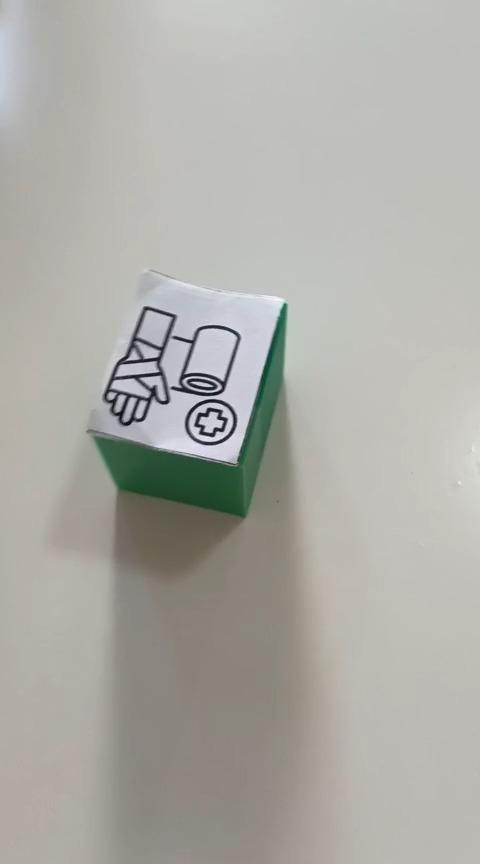Bandages: (85, 267, 288, 518)
